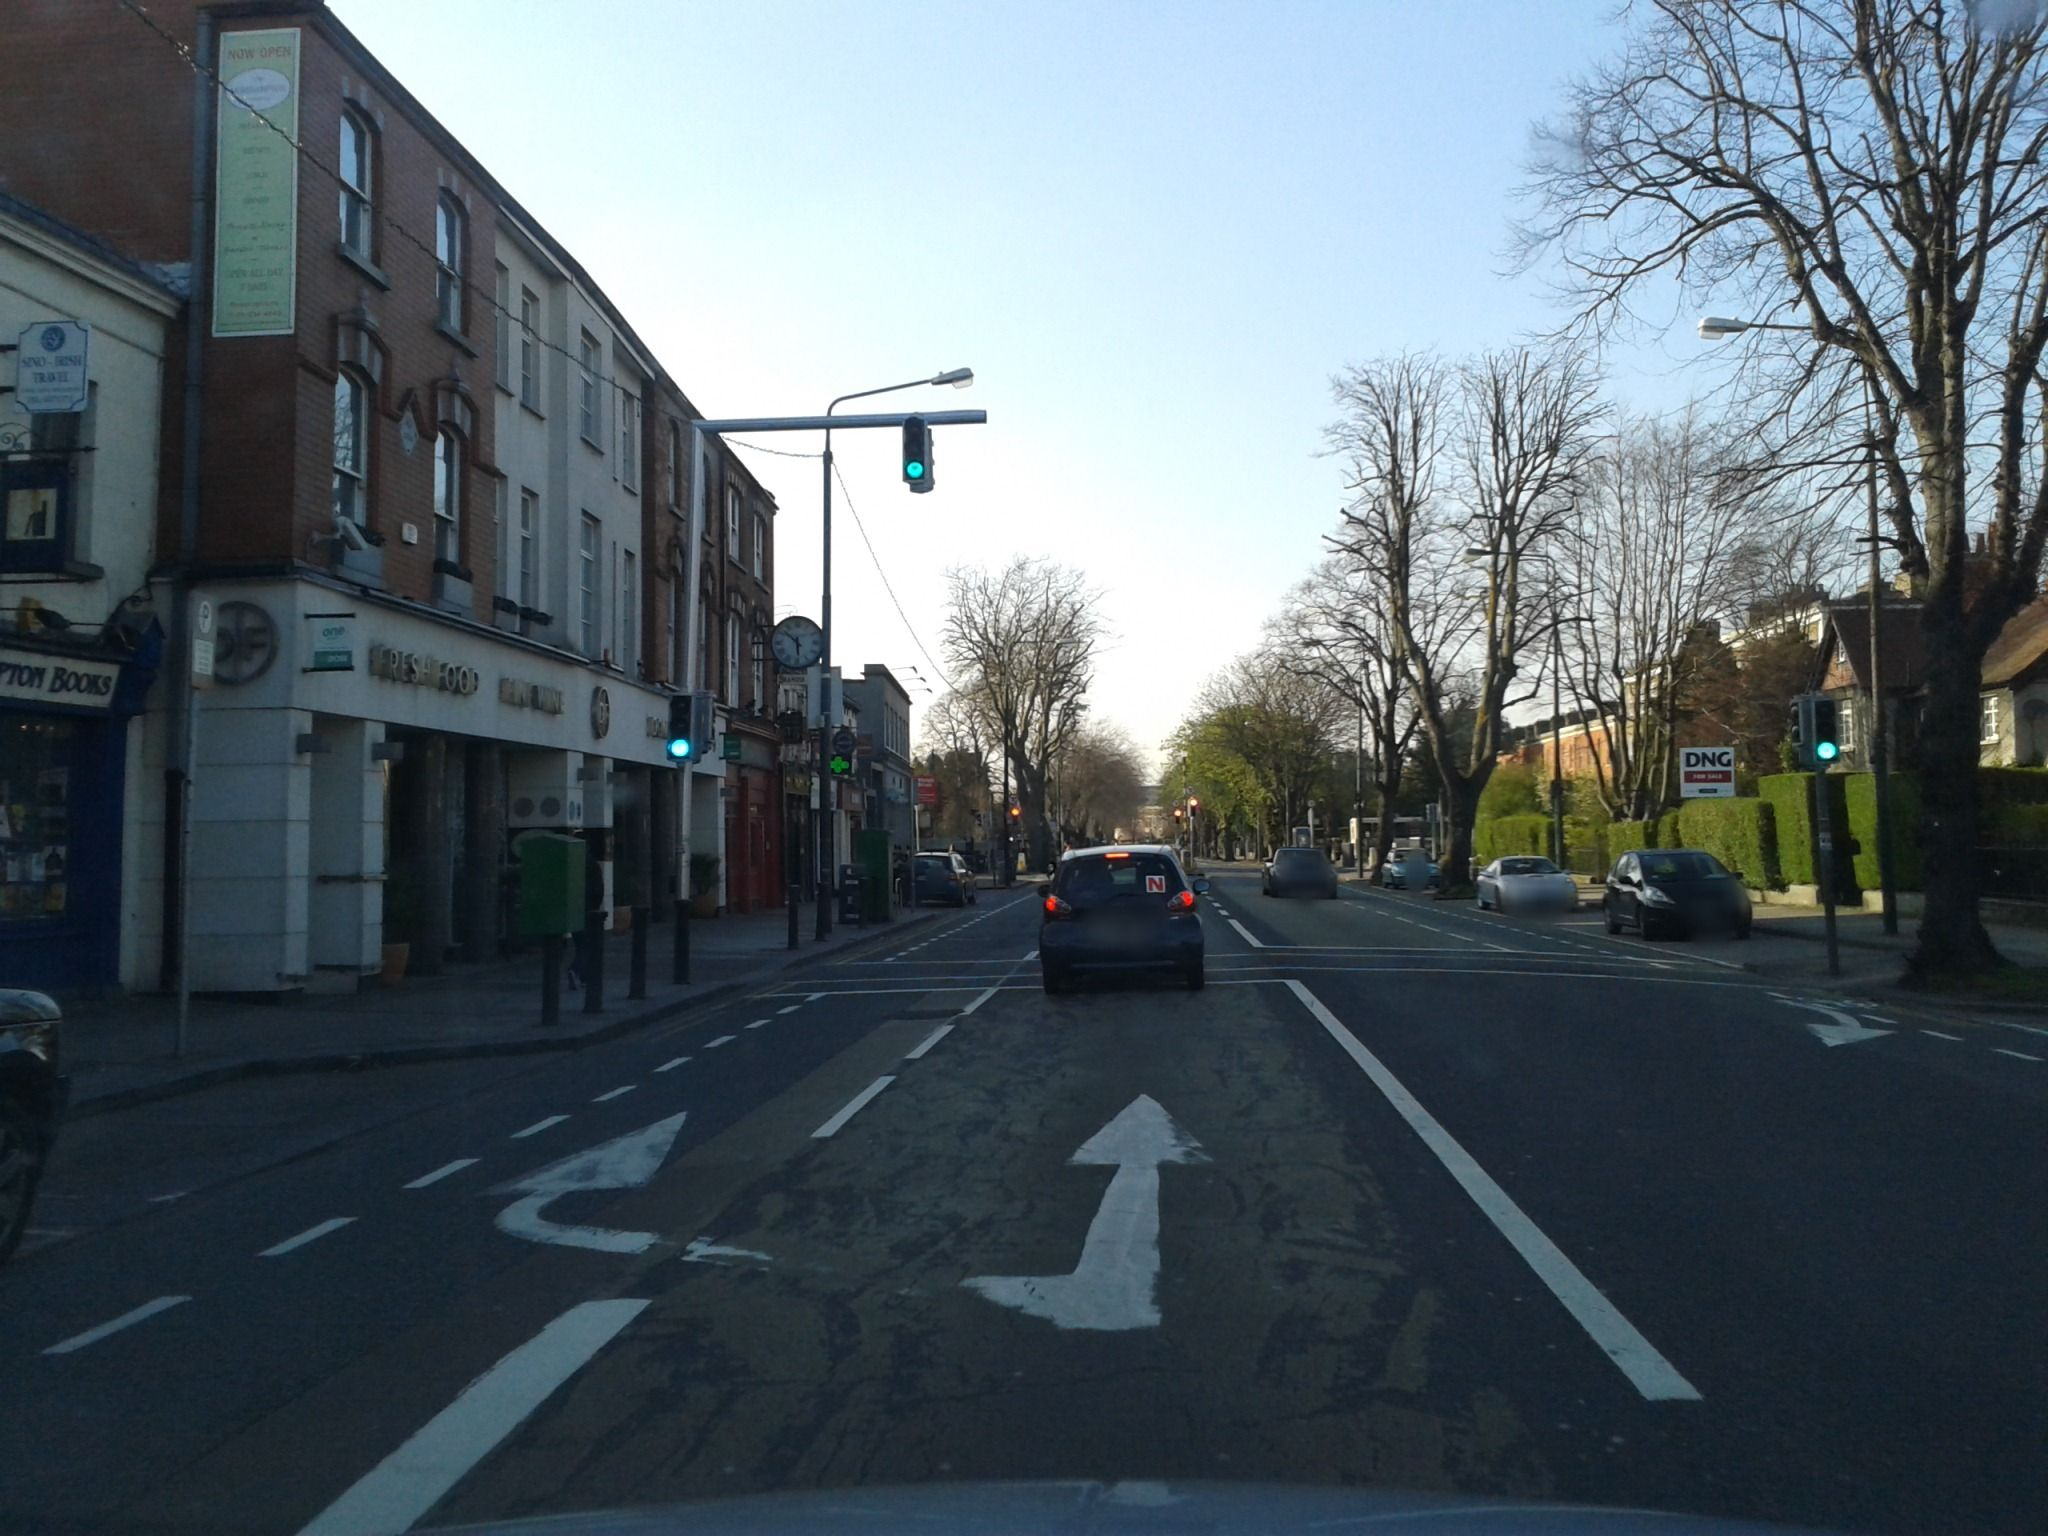property sign: (1667, 731, 1751, 812)
